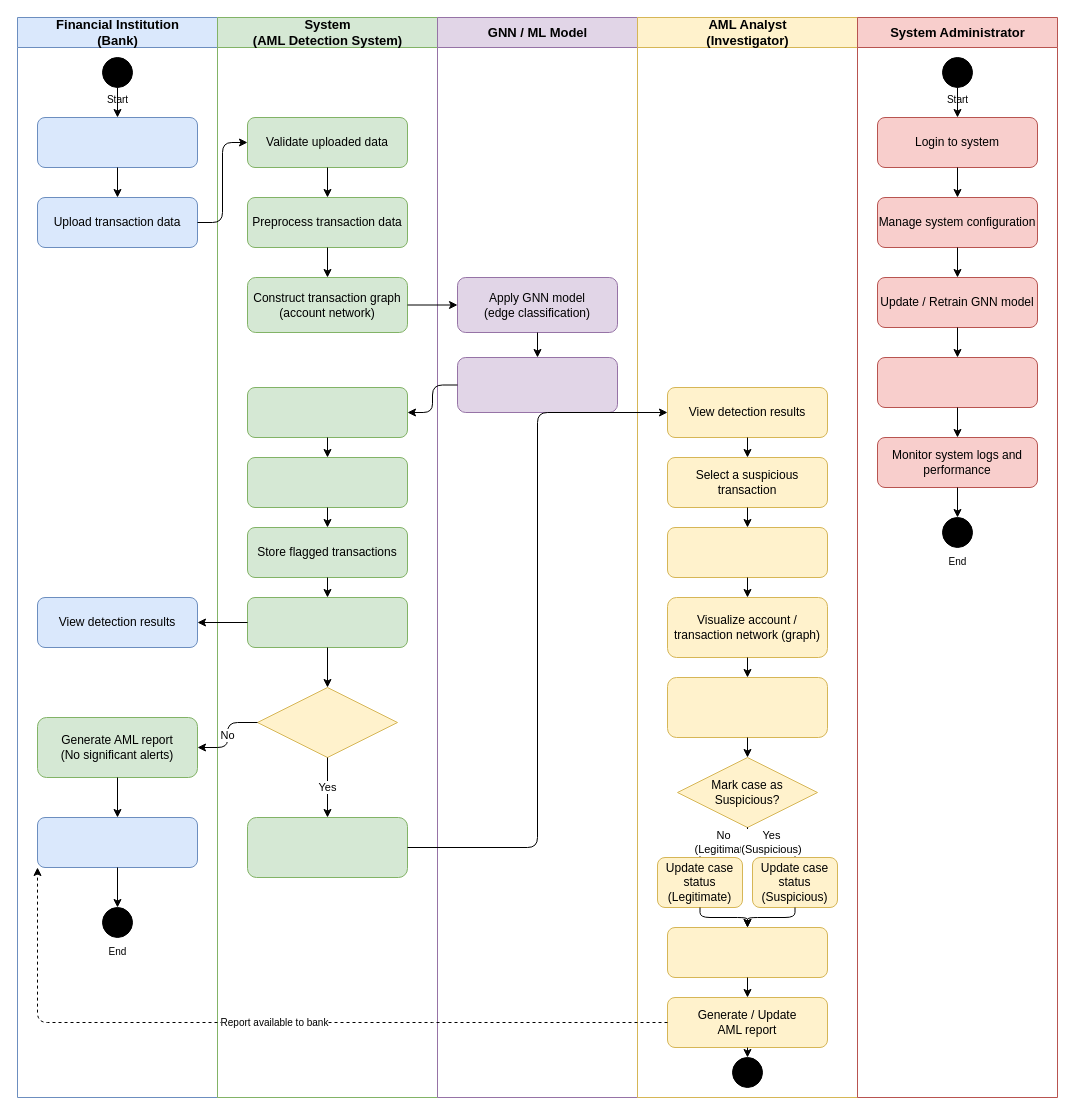
Image size: 1075x1115. Some labels were removed from this diagram. The centre of each missing label's shape, as x and y in pixels:
Add investigation notes: (747,952)
Any suspicious transactions?: (327,722)
Display detection results: (327,622)
Generate AML report (with flagged transactions): (327,847)
Generate risk scores: (327,482)
Investigate transaction (analyze patterns, notes): (747,707)
Manage users and access: (957,382)
Predict suspicious transactions: (537,384)
Prepare transaction data (CSV): (117,142)
Receive prediction results: (327,412)
View AML Report: (117,842)
View transaction details: (747,552)
